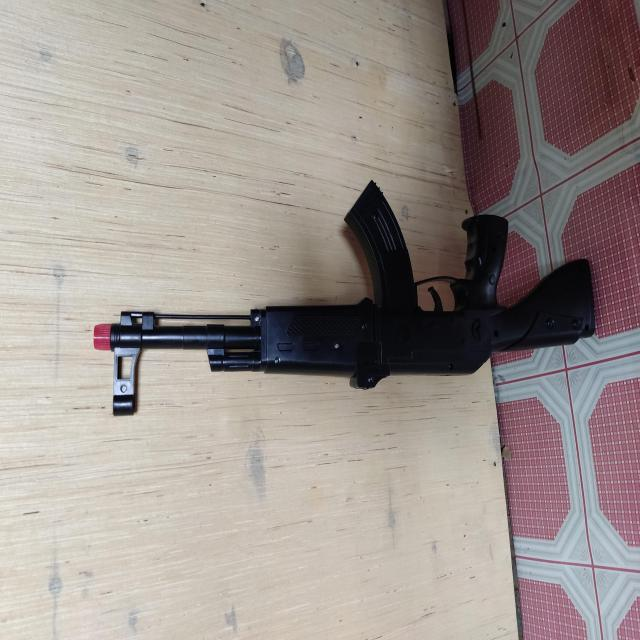rifle: (92, 180, 595, 415)
